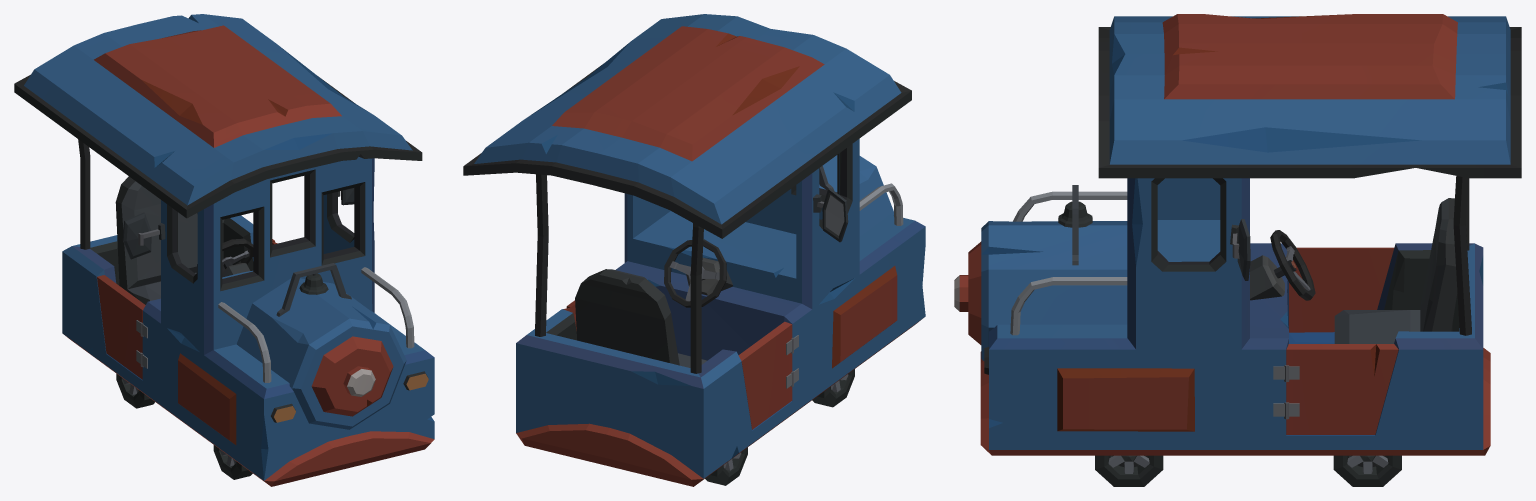
File: train.glb
3 views of the same model, side by side, from view 1: azimuth 30°, elevation 25°; view 2: azimuth 150°, elevation 25°; view 3: azimuth 270°, elevation 25° (orthographic). The views are drawn at different scales.
Visible parts, largest first — view 1: SM_Veh_Carnival_Train_01; view 2: SM_Veh_Carnival_Train_01; view 3: SM_Veh_Carnival_Train_01.
Part boxes in pixels (x1=…): SM_Veh_Carnival_Train_01: x1=14, y1=14, x2=434, y2=486; SM_Veh_Carnival_Train_01: x1=463, y1=14, x2=925, y2=486; SM_Veh_Carnival_Train_01: x1=954, y1=14, x2=1521, y2=486.
Bounding box in the file's own units: 182 × 239 × 303.
Materials: 1 (1 with a texture image).
